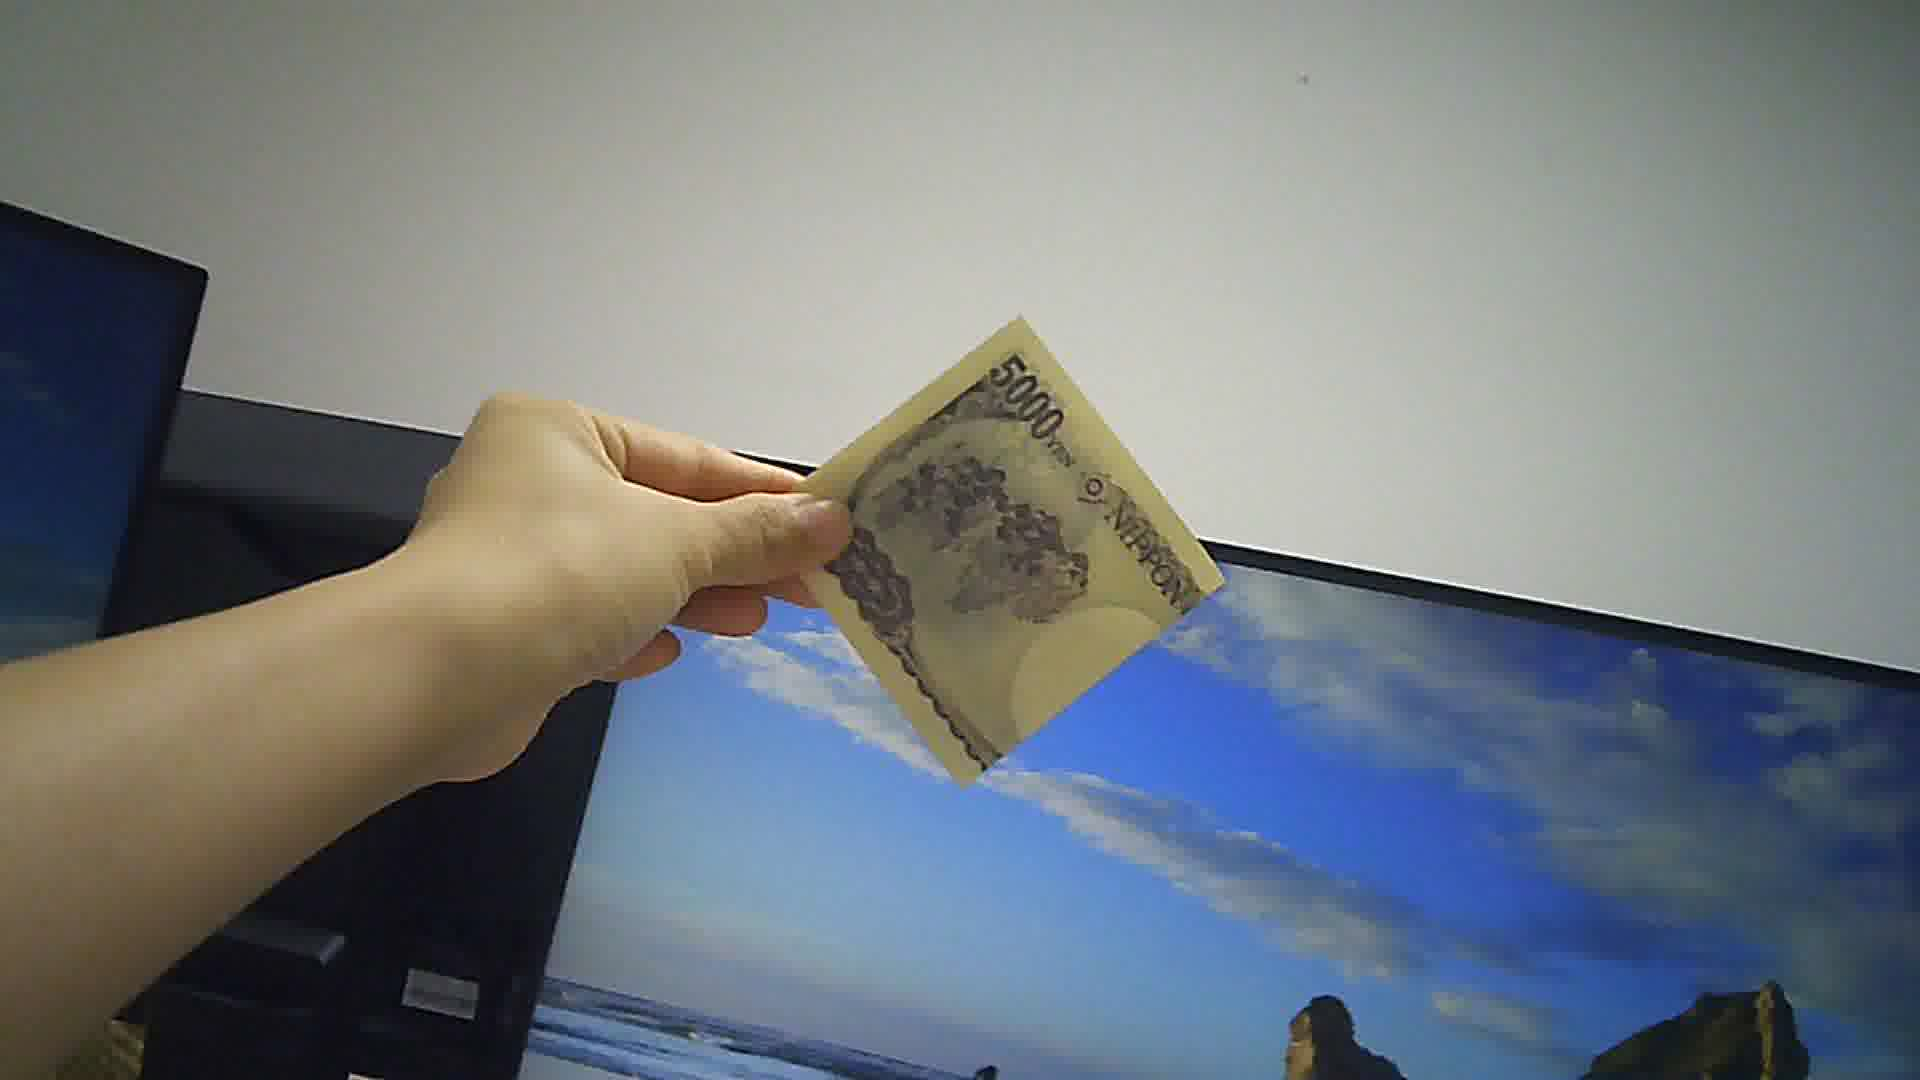5,000 Yen: (775, 307, 1218, 810)
